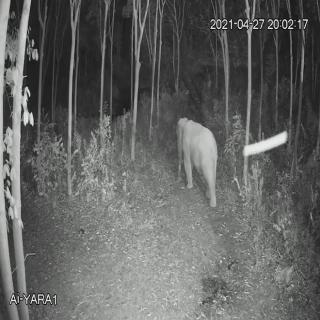Elephant: (171, 114, 222, 208)
